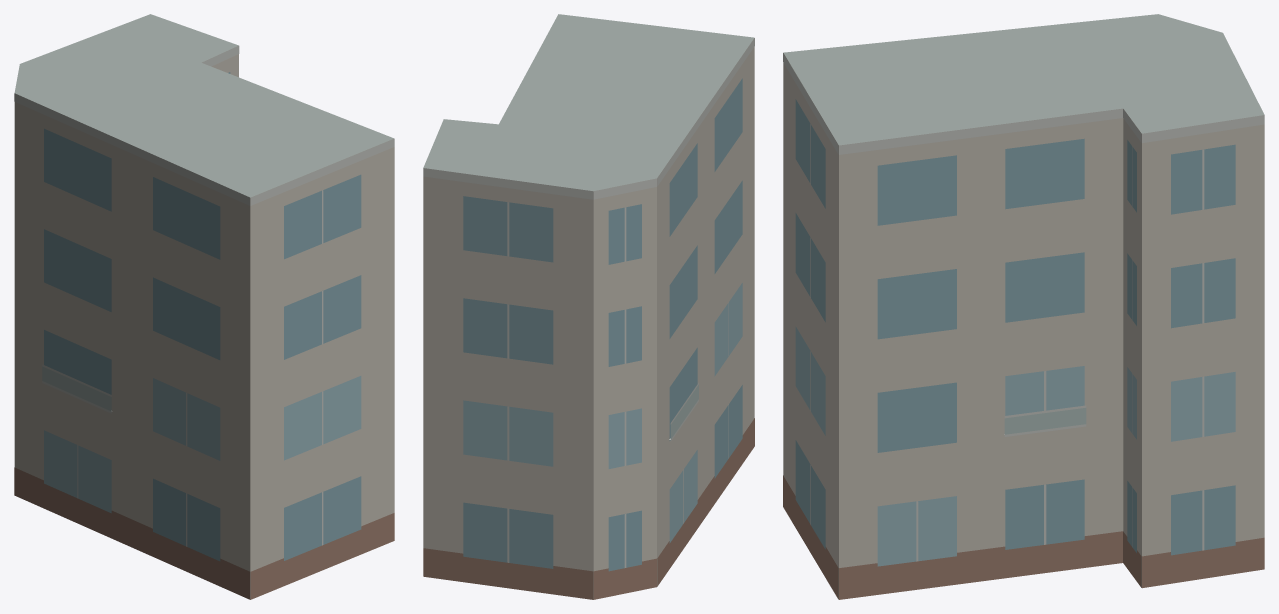
The model's file is survey-upis-32500738.glb.
3 views of the same model, side by side, from view 1: azimuth 30°, elevation 25°; view 2: azimuth 150°, elevation 25°; view 3: azimuth 270°, elevation 25° (orthographic). The views are drawn at different scales.
Visible parts, largest first — view 1: survey-upis-32500738.tmp; view 2: survey-upis-32500738.tmp; view 3: survey-upis-32500738.tmp.
Boxes of the visible parts, box(x1,y1,x2,y2) form: survey-upis-32500738.tmp: box(14, 14, 394, 599); survey-upis-32500738.tmp: box(423, 14, 754, 599); survey-upis-32500738.tmp: box(783, 14, 1264, 599).
Bounding box in the file's own units: 7.27 × 11.7 × 11.25.
